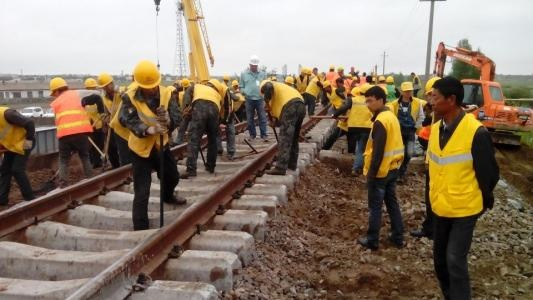none: (431, 76, 466, 118), (362, 85, 386, 112)
white: (247, 55, 261, 71)
yellow: (131, 61, 162, 96), (47, 76, 69, 97), (97, 70, 114, 92), (400, 80, 414, 98)
